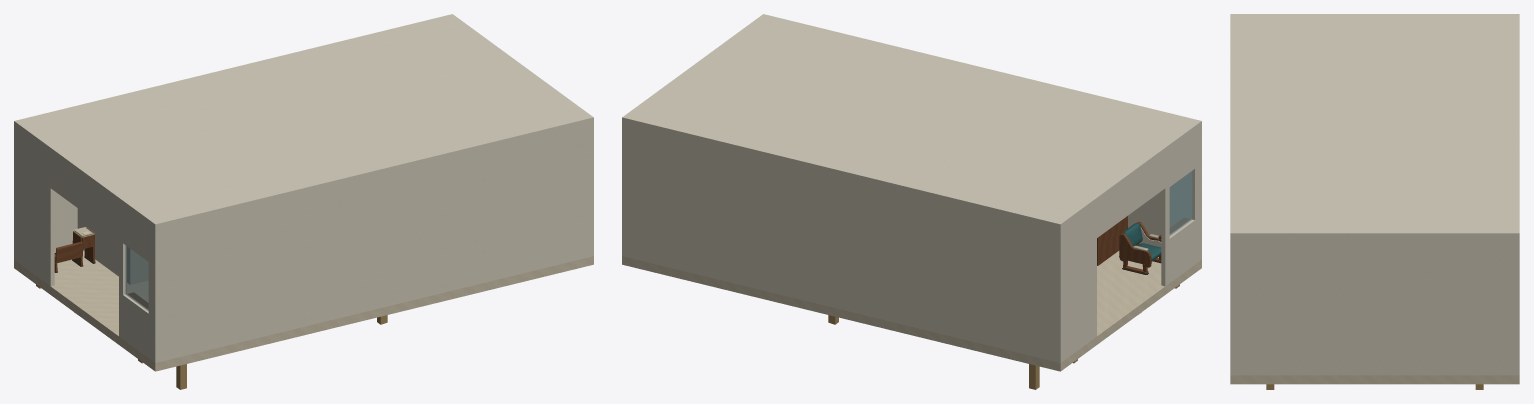
The model's file is NightGardenD15Specialty_506_r001.glb.
The picture shows the model from 3 angles, left to right: view 1: azimuth 30°, elevation 25°; view 2: azimuth 150°, elevation 25°; view 3: azimuth 270°, elevation 25°; orthographic projection. The views are drawn at different scales.
Visible parts, largest first — view 1: NG506_Ceiling, NG506_NorthSide, NG506_RoomFloor, NG506_EntryShoulderSouth, NG506_EntryHeader, NG506_StreetWindowLower, NG506_WashEntrySide, NG506_SouthSide, NG506_StreetWindowUpper, NG506_ScreenedStreetGlass; view 2: NG506_Ceiling, NG506_SouthSide, NG506_RoomFloor, NG506_EntryShoulderSouth, NG506_EntryHeader, NG506_NorthSide, NG506_StreetWindowLower, NG506_StreetWindowUpper, NG506_ScreenedStreetGlass, NG506_EntryPrivacyDogleg, NG506_StreetReadingChair__DAY_CHAIR_R_swept_walnut_cheek; view 3: NG506_Ceiling, NG506_OpaqueRearBoundary, NG506_RoomFloor, NG506_NorthSide, NG506_SouthSide.
Part boxes in pixels (x1,y1,x2,y2): NG506_Ceiling: (14,14,593,229); NG506_NorthSide: (153,123,593,362); NG506_RoomFloor: (14,250,593,371); NG506_EntryShoulderSouth: (16,128,54,286); NG506_EntryHeader: (49,153,119,238); NG506_StreetWindowLower: (119,292,152,360); NG506_WashEntrySide: (77,208,133,284); NG506_SouthSide: (14,127,77,260); NG506_StreetWindowUpper: (119,204,152,264); NG506_ScreenedStreetGlass: (125,245,148,310); NG506_Ceiling: (622,14,1201,229); NG506_SouthSide: (622,123,1062,362); NG506_RoomFloor: (622,251,1201,371); NG506_EntryShoulderSouth: (1063,203,1096,360); NG506_EntryHeader: (1096,152,1166,237); NG506_NorthSide: (1128,127,1201,260); NG506_StreetWindowLower: (1161,217,1199,286); NG506_StreetWindowUpper: (1163,128,1199,190); NG506_ScreenedStreetGlass: (1169,171,1192,235); NG506_EntryPrivacyDogleg: (1097,216,1127,265); NG506_StreetReadingChair__DAY_CHAIR_R_swept_walnut_cheek: (1119,233,1151,267); NG506_Ceiling: (1230,14,1519,238); NG506_OpaqueRearBoundary: (1235,239,1514,375); NG506_RoomFloor: (1230,375,1519,384); NG506_NorthSide: (1230,239,1234,375); NG506_SouthSide: (1515,239,1519,375).
Size of the model in its own units: 12.9 by 5.31 by 7.2.
64 materials, 49 textured.
